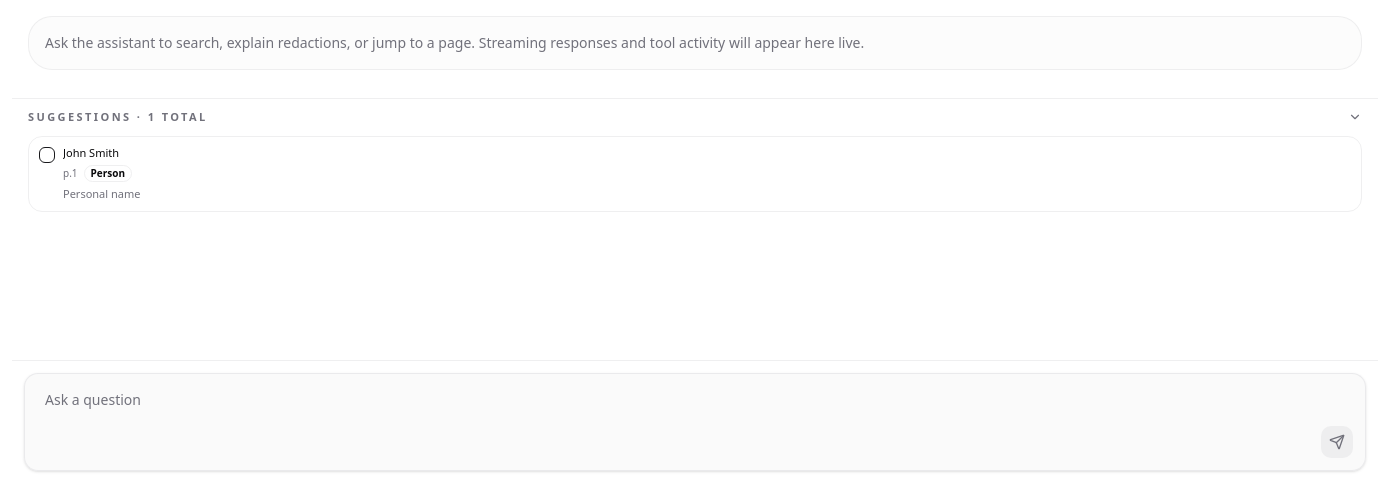
Test: AgentChatPanel suggestionsSection › collapses the suggestions list when the toggle button is clicked
The image size is (1390, 489).
Check: the text "John Smith" is shown, box [63,144,119,160]
What coordinates should you click on to do the following:
click the button with aria-label "toggle suggestions"
I would click on:
 (88, 116)
Its box is [12,99,1378,136].
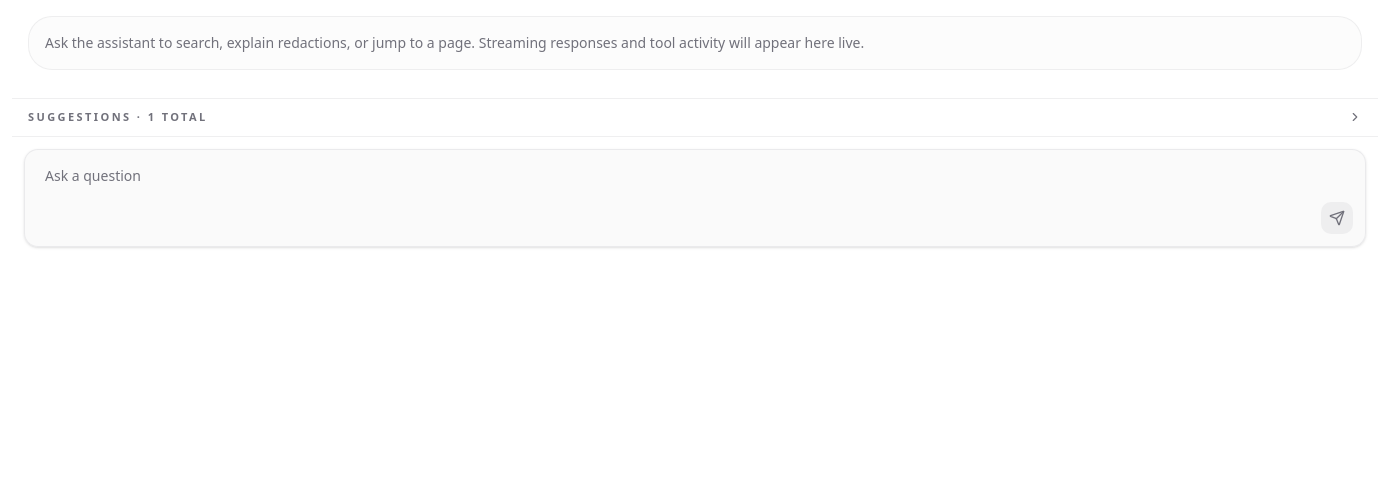
Check: the button "John Smith" is gone
